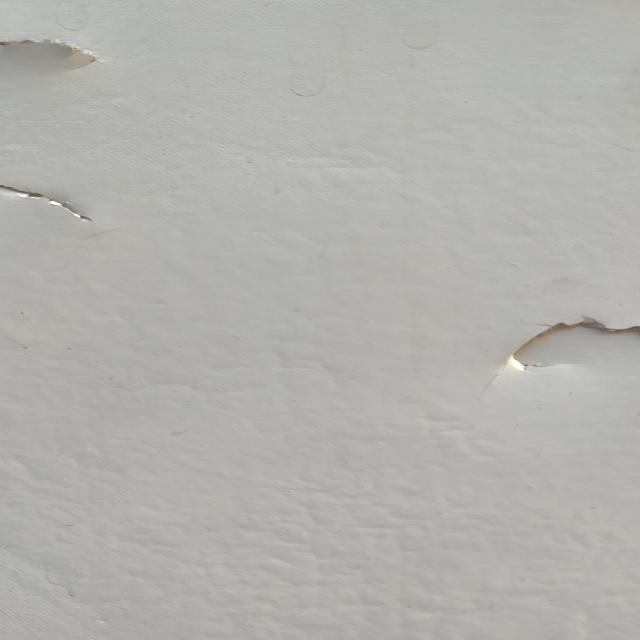Scratches: (485, 300, 640, 404), (1, 171, 129, 249), (1, 26, 129, 95)
